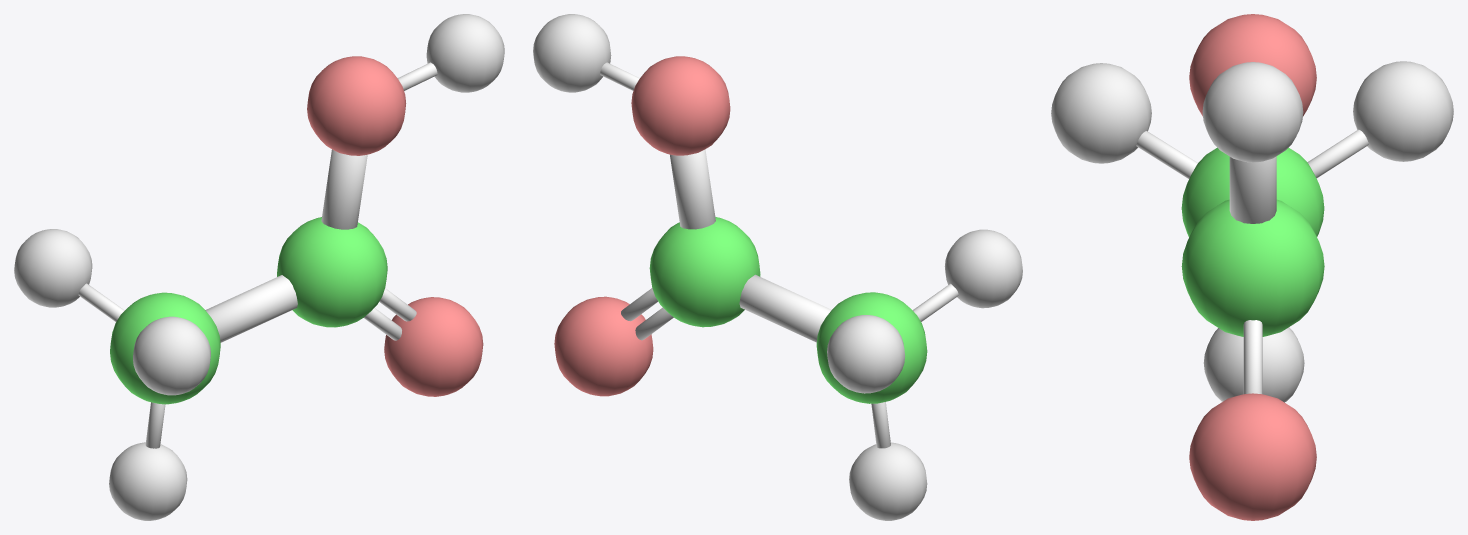
Rendered from Acido.fbx.
The picture shows the model from 3 angles, left to right: view 1: azimuth 30°, elevation 25°; view 2: azimuth 150°, elevation 25°; view 3: azimuth 270°, elevation 25°; orthographic projection. The views are drawn at different scales.
Parts seen in each view (by area): view 1: Shape_Sphere.003, Shape_Sphere, Shape_Sphere.001, Shape_Sphere.002, Shape_Sphere.004, Shape_Sphere.005, Shape_Sphere.006, Shape_Sphere.007, Shape_Cylinder.004, Shape_Cylinder, Shape_Cylinder.006, Shape_Cylinder.007 (+3 smaller); view 2: Shape_Sphere.003, Shape_Sphere, Shape_Sphere.001, Shape_Sphere.002, Shape_Sphere.005, Shape_Sphere.004, Shape_Sphere.006, Shape_Sphere.007, Shape_Cylinder.004, Shape_Cylinder, Shape_Cylinder.005, Shape_Cylinder.007 (+3 smaller); view 3: Shape_Sphere.003, Shape_Sphere.001, Shape_Sphere.007, Shape_Sphere.005, Shape_Sphere.004, Shape_Sphere, Shape_Sphere.002, Shape_Sphere.006, Shape_Cylinder, Shape_Cylinder.002, Shape_Cylinder.005, Shape_Cylinder.006.
Part boxes in pixels (box(x1,y1,x2,y2)): Shape_Sphere.003: box(277, 217, 387, 327); Shape_Sphere: box(307, 56, 406, 155); Shape_Sphere.001: box(384, 297, 483, 396); Shape_Sphere.002: box(110, 292, 220, 404); Shape_Sphere.004: box(133, 316, 210, 395); Shape_Sphere.005: box(14, 229, 92, 307); Shape_Sphere.006: box(109, 442, 187, 520); Shape_Sphere.007: box(426, 14, 504, 92); Shape_Cylinder.004: box(205, 275, 297, 342); Shape_Cylinder: box(321, 149, 367, 229); Shape_Cylinder.006: box(78, 283, 124, 321); Shape_Cylinder.007: box(145, 402, 165, 448); Shape_Sphere.003: box(649, 217, 760, 327); Shape_Sphere: box(631, 56, 730, 155); Shape_Sphere.001: box(554, 296, 653, 396); Shape_Sphere.002: box(816, 292, 927, 403); Shape_Sphere.005: box(827, 315, 905, 393); Shape_Sphere.004: box(944, 229, 1022, 308); Shape_Sphere.006: box(849, 442, 927, 520); Shape_Sphere.007: box(533, 14, 611, 92); Shape_Cylinder.004: box(739, 274, 831, 342); Shape_Cylinder: box(670, 149, 715, 229); Shape_Cylinder.005: box(913, 283, 958, 321); Shape_Cylinder.007: box(871, 402, 890, 448); Shape_Sphere.003: box(1181, 199, 1324, 336); Shape_Sphere.001: box(1189, 393, 1316, 520); Shape_Sphere.007: box(1202, 62, 1303, 162); Shape_Sphere.005: box(1353, 61, 1453, 161); Shape_Sphere.004: box(1051, 63, 1151, 163); Shape_Sphere: box(1189, 14, 1316, 116); Shape_Sphere.002: box(1181, 147, 1324, 237); Shape_Sphere.006: box(1203, 327, 1304, 402); Shape_Cylinder: box(1229, 156, 1276, 223); Shape_Cylinder.002: box(1243, 320, 1262, 394); Shape_Cylinder.005: box(1136, 131, 1197, 178); Shape_Cylinder.006: box(1307, 129, 1368, 178).
Bounding box in the file's own units: 370 × 354 × 240.
